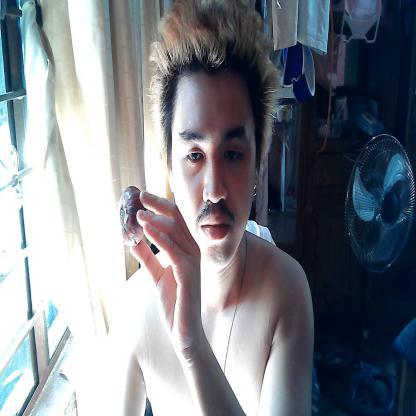onion: (112, 184, 150, 254)
